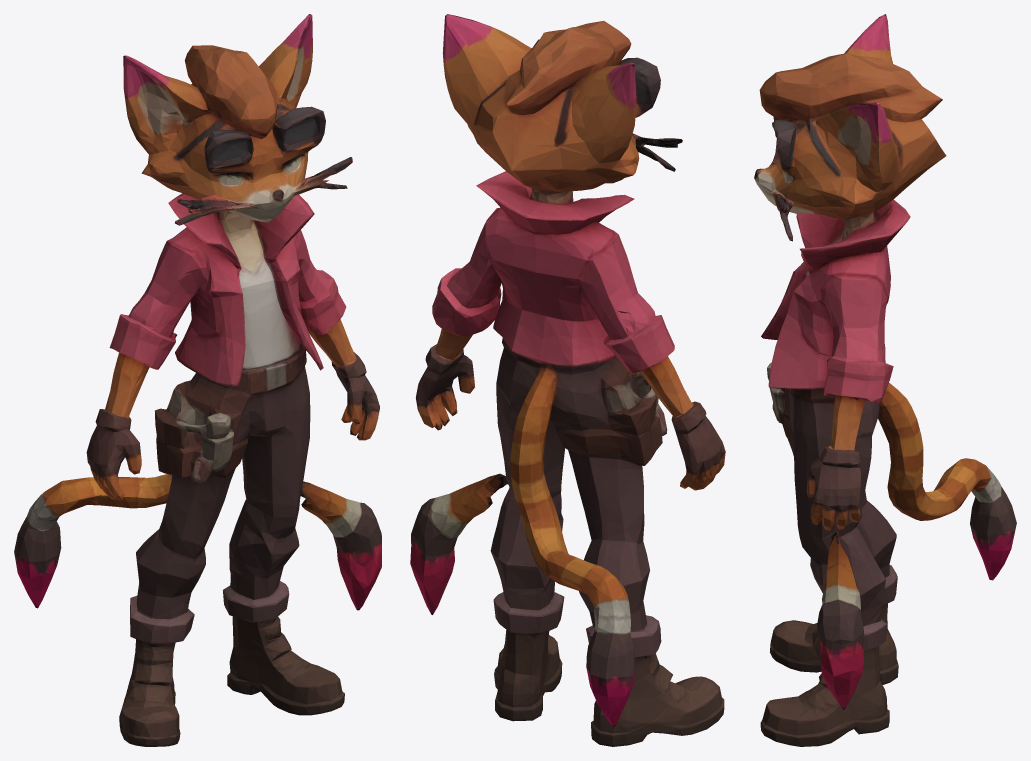
The model's file is taro_a.glb.
The picture shows the model from 3 angles, left to right: view 1: azimuth 30°, elevation 25°; view 2: azimuth 150°, elevation 25°; view 3: azimuth 270°, elevation 25°; orthographic projection. The views are drawn at different scales.
Bounding box in the file's own units: 0.4585 × 1 × 0.3652.
1 material, 1 textured.
